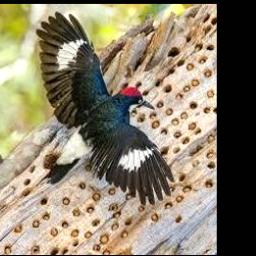Woodpecker: (36, 12, 175, 205)
